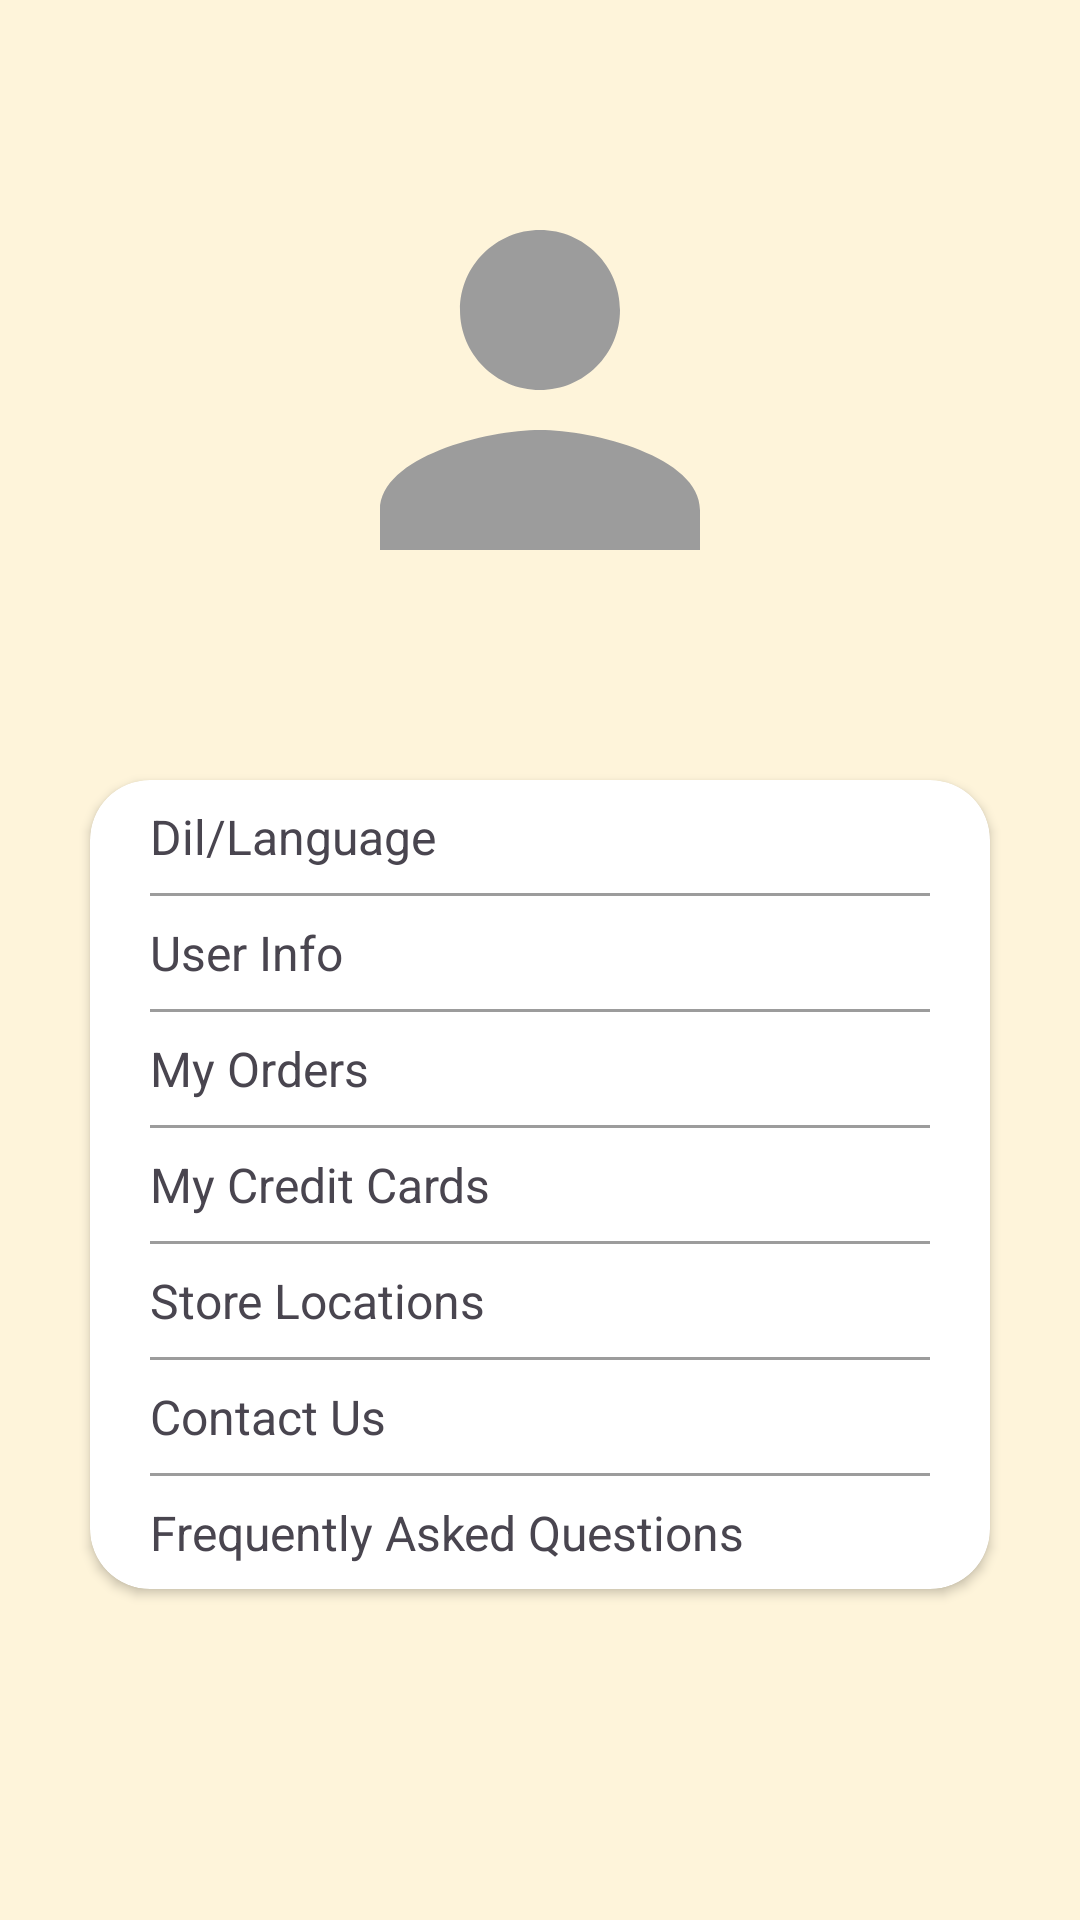

Where to tap for icons on this 1080px x 1920px app screen, as (x=x, y=y):
person: (x=540, y=390)
